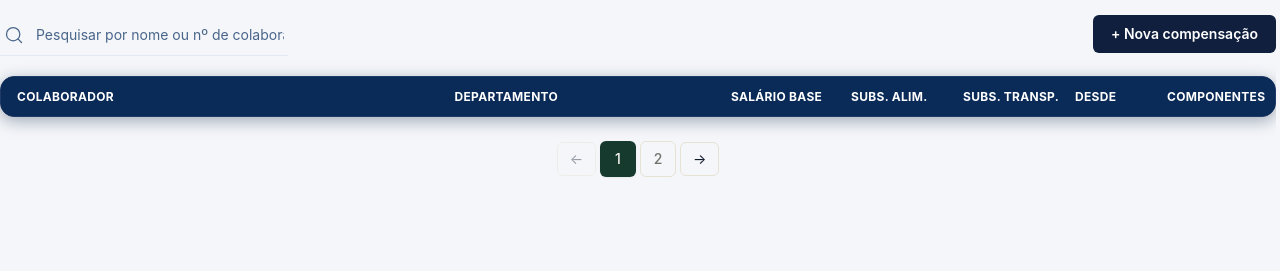
it: CompensationsView › shows only the header, no rows, until the search is changed
Expected: the text "Colaborador" is shown, [17,89,114,104]
Expected: the text "Ana Silva" is not shown
Type "a" into the dropdown with placeholder "Pesquisar por nome ou nº de colaborador…" at (160, 34), box [36,24,284,44]
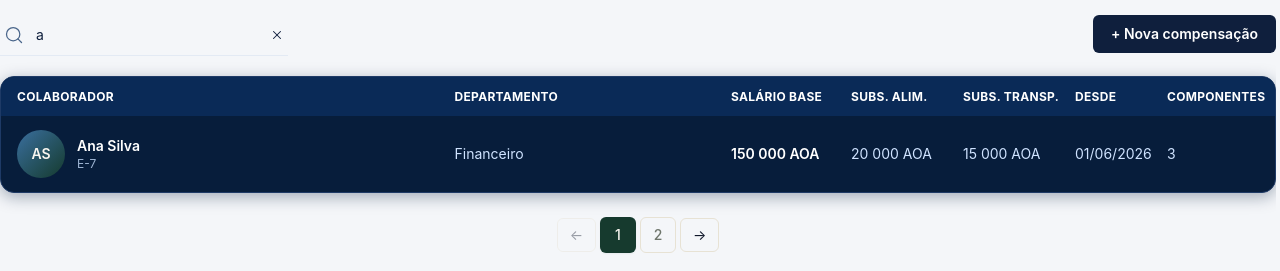
Now the text "Ana Silva" is shown, box [77,136,140,156]
